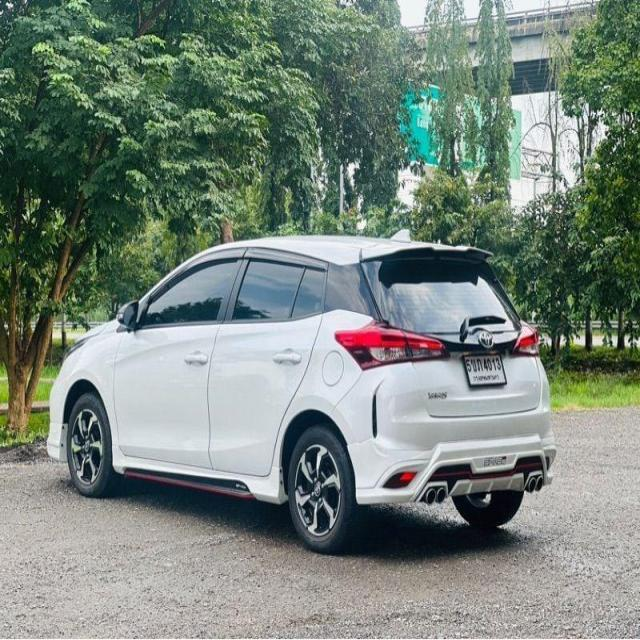Hatchback: (46, 236, 558, 557)
